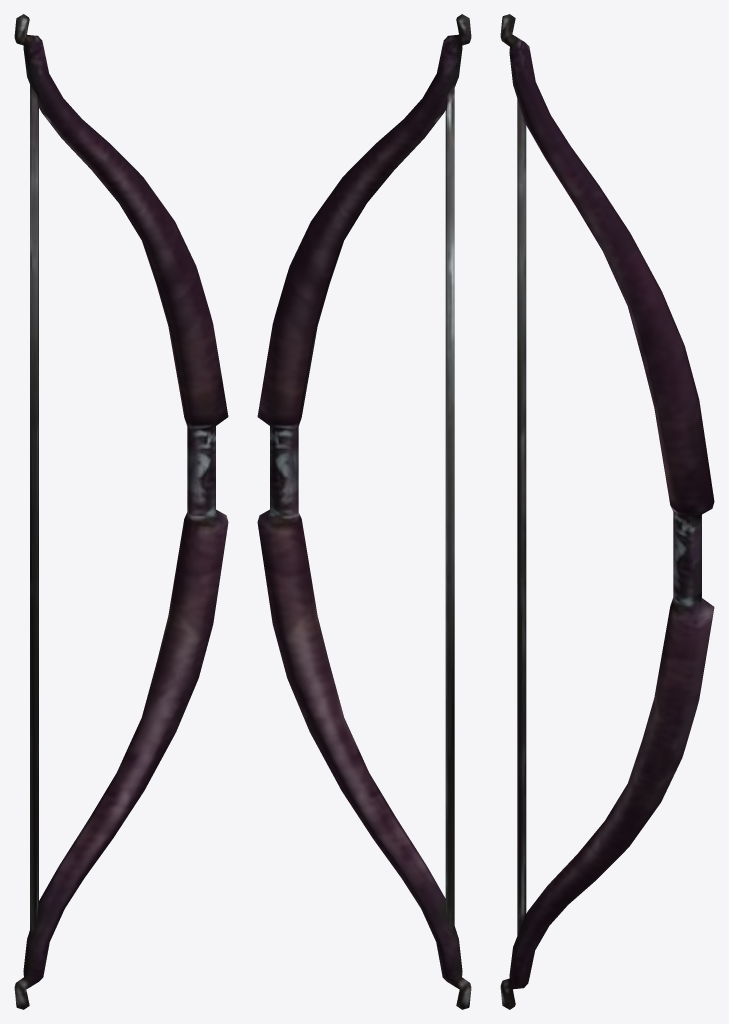
Rendered from weapon-lacquered-bow.glb.
3 renders of one model, left to right at view 1: azimuth 30°, elevation 25°; view 2: azimuth 150°, elevation 25°; view 3: azimuth 330°, elevation 25°, orthographic.
Visible parts, largest first — view 1: bowC_MDL_q; view 2: bowC_MDL_q; view 3: bowC_MDL_q.
Part boxes in pixels (x1,y1,x2,y2): bowC_MDL_q: [14, 14, 228, 1009]; bowC_MDL_q: [257, 14, 471, 1009]; bowC_MDL_q: [500, 14, 714, 1009].
Size of the model in its own units: 0.4054 by 1.83 by 0.0858.
1 material, 1 textured.
